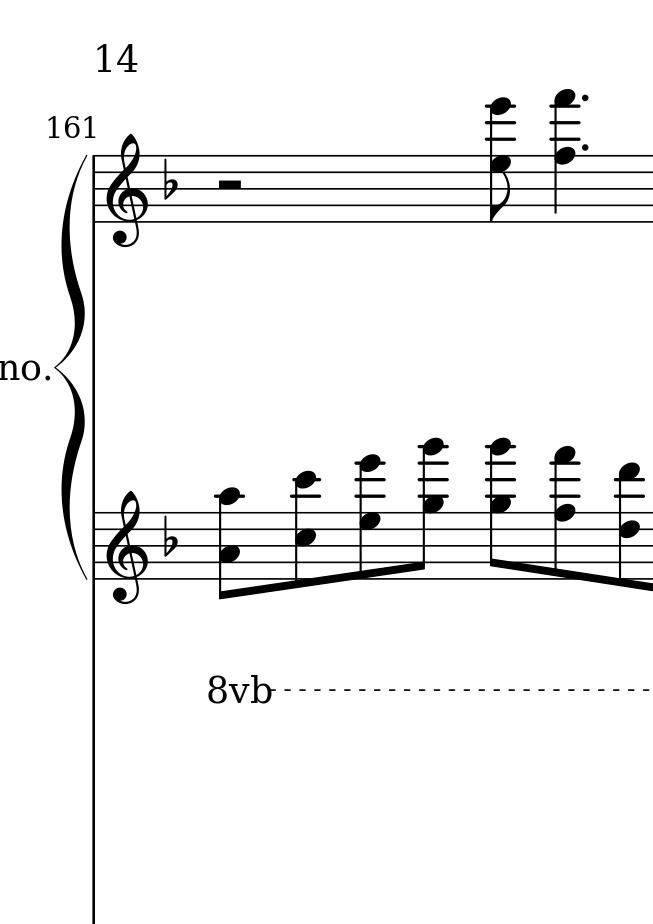1: (95, 41, 113, 74), (47, 112, 62, 142), (83, 113, 97, 142)
4_8_15: (551, 87, 581, 225)
6: (64, 112, 81, 141)
8_3_10: (215, 486, 244, 601)
8_5_12: (291, 469, 319, 590)
8_6_13: (615, 461, 647, 590)
8_7_14: (354, 453, 386, 581), (485, 96, 515, 224)
8_8_15: (550, 445, 580, 583)
8_9_16: (412, 437, 450, 581), (483, 436, 518, 582)
Brace: (51, 154, 89, 584)
Flat: (160, 515, 180, 560), (161, 156, 177, 203)
Gclef: (105, 133, 152, 247), (107, 491, 152, 608)
Rests2: (216, 177, 243, 193)
Single_barline: (86, 154, 105, 223), (87, 512, 105, 581)
dot: (578, 91, 592, 103), (578, 141, 589, 153)
